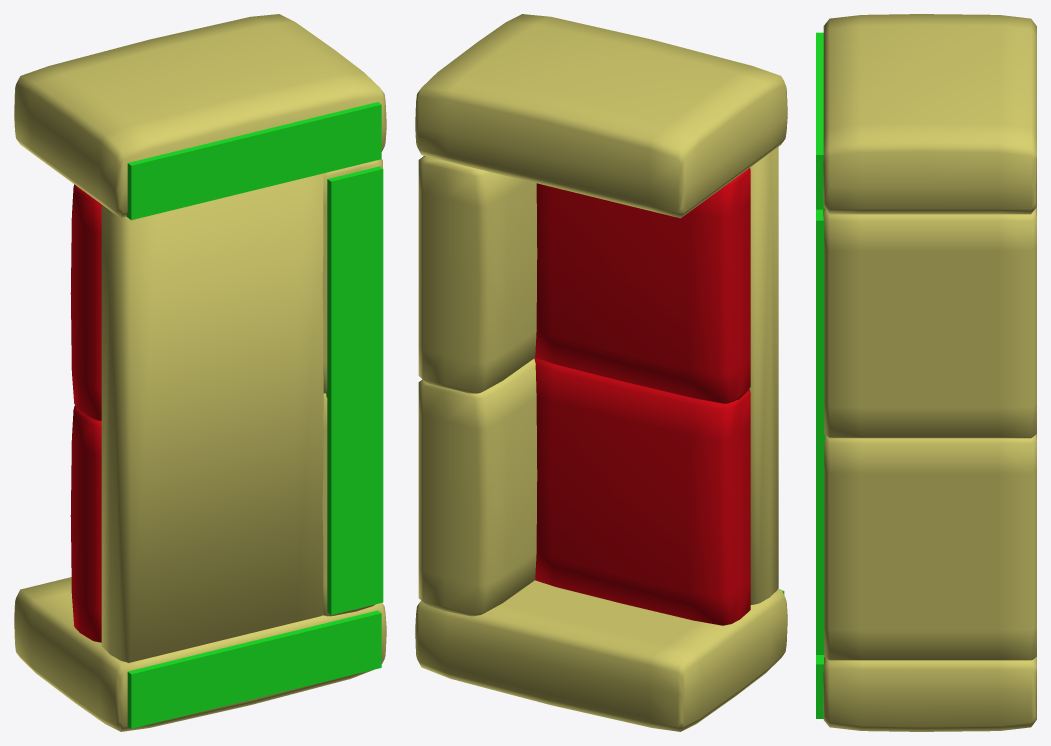
File: sofa_3.FBX
3 views of the same model, side by side, from view 1: azimuth 30°, elevation 25°; view 2: azimuth 150°, elevation 25°; view 3: azimuth 270°, elevation 25° (orthographic).
Parts seen in each view (by area): view 1: legs.003; view 2: legs.003; view 3: legs.003.
Part boxes in pixels (x1,y1,x2,y2): legs.003: (14, 14, 386, 731); legs.003: (415, 14, 787, 731); legs.003: (816, 14, 1036, 731).
Size of the model in its own units: 94.59 by 201 by 66.59.
